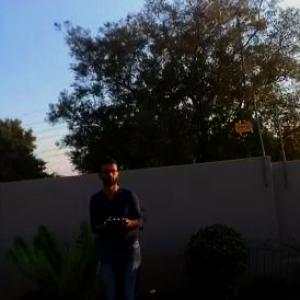follow: (88, 151, 156, 299)
